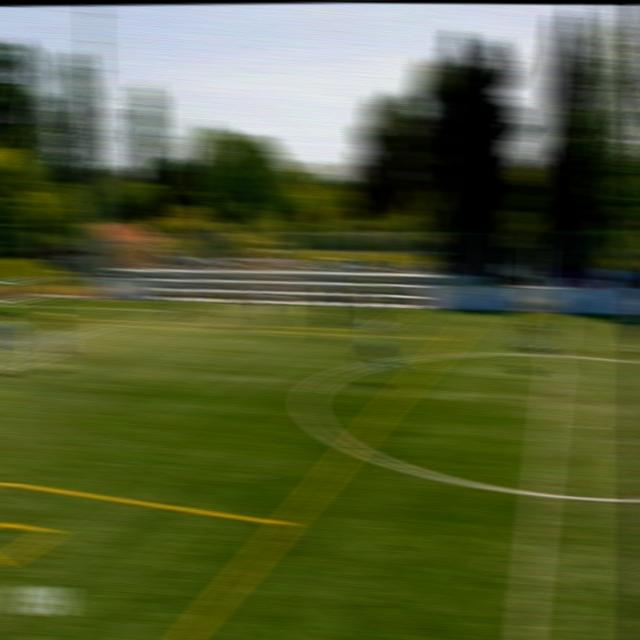bigarea_top_outter: (0, 298, 13, 311)
halfcircle_bottom: (517, 475, 562, 511)
halfcircle_top: (538, 345, 571, 373)
midline_top_intersection: (553, 308, 570, 318)
